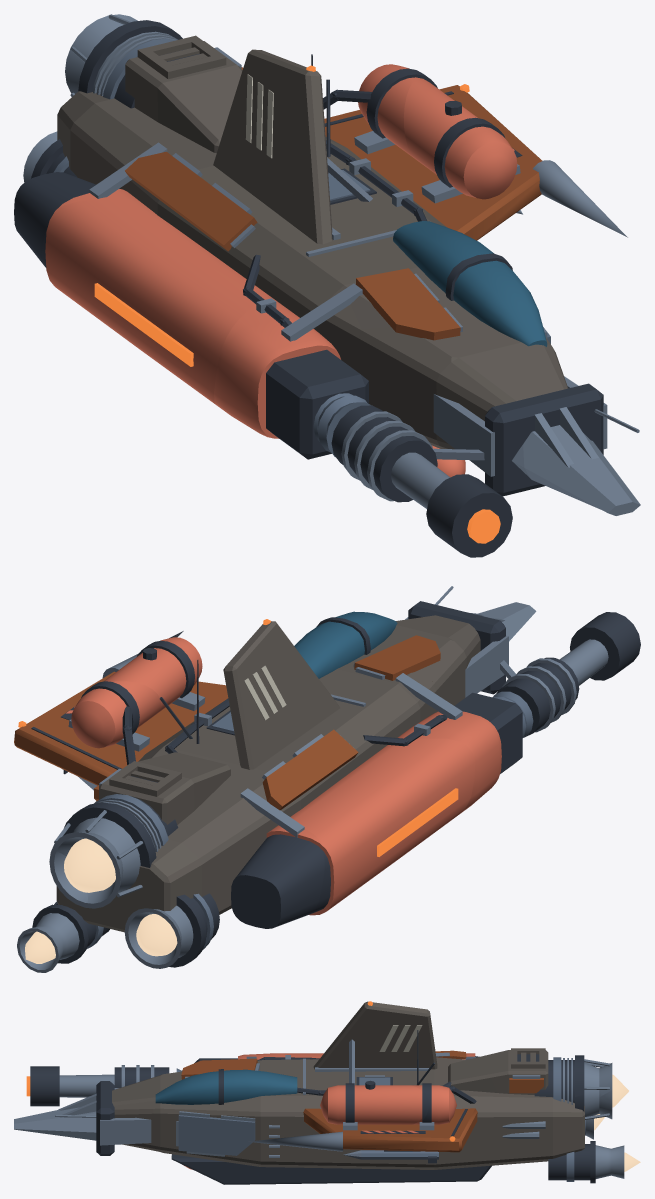
The model's file is scrap_raider_wreck.glb.
3 renders of one model, top to bottom at view 1: azimuth 30°, elevation 25°; view 2: azimuth 150°, elevation 25°; view 3: azimuth 270°, elevation 25°, orthographic. The views are drawn at different scales.
Visible parts, largest first — view 1: scrap_raider_wreck_01, scrap_raider_wreck_05, scrap_raider_wreck_00, scrap_raider_wreck_02, scrap_raider_wreck_06, scrap_raider_wreck_07, scrap_raider_wreck_04, scrap_raider_wreck_09, scrap_raider_wreck_03; view 2: scrap_raider_wreck_00, scrap_raider_wreck_05, scrap_raider_wreck_01, scrap_raider_wreck_02, scrap_raider_wreck_03, scrap_raider_wreck_06, scrap_raider_wreck_04, scrap_raider_wreck_07, scrap_raider_wreck_08, scrap_raider_wreck_09; view 3: scrap_raider_wreck_06, scrap_raider_wreck_03, scrap_raider_wreck_07, scrap_raider_wreck_02, scrap_raider_wreck_08, scrap_raider_wreck_00, scrap_raider_wreck_09, scrap_raider_wreck_01, scrap_raider_wreck_04.
Boxes of the visible parts, left/top/right/bottom form: scrap_raider_wreck_01: left=272, top=317, right=534, bottom=557; scrap_raider_wreck_05: left=42, top=191, right=307, bottom=404; scrap_raider_wreck_00: left=14, top=14, right=243, bottom=264; scrap_raider_wreck_02: left=130, top=49, right=384, bottom=229; scrap_raider_wreck_06: left=324, top=205, right=557, bottom=358; scrap_raider_wreck_07: left=382, top=74, right=627, bottom=240; scrap_raider_wreck_04: left=214, top=222, right=375, bottom=447; scrap_raider_wreck_09: left=517, top=347, right=640, bottom=515; scrap_raider_wreck_03: left=323, top=64, right=467, bottom=195; scrap_raider_wreck_00: left=53, top=760, right=324, bottom=968; scrap_raider_wreck_05: left=284, top=709, right=475, bottom=915; scrap_raider_wreck_01: left=405, top=612, right=640, bottom=769; scrap_raider_wreck_02: left=159, top=619, right=332, bottom=811; scrap_raider_wreck_03: left=14, top=681, right=230, bottom=802; scrap_raider_wreck_06: left=294, top=611, right=433, bottom=699; scrap_raider_wreck_04: left=330, top=682, right=508, bottom=813; scrap_raider_wreck_07: left=19, top=631, right=229, bottom=723; scrap_raider_wreck_08: left=17, top=833, right=124, bottom=972; scrap_raider_wreck_09: left=396, top=586, right=536, bottom=641; scrap_raider_wreck_06: left=152, top=1058, right=334, bottom=1172; scrap_raider_wreck_03: left=336, top=1072, right=514, bottom=1182; scrap_raider_wreck_07: left=248, top=1080, right=452, bottom=1166; scrap_raider_wreck_02: left=320, top=1001, right=483, bottom=1085; scrap_raider_wreck_08: left=505, top=1090, right=640, bottom=1183; scrap_raider_wreck_00: left=459, top=1048, right=628, bottom=1139; scrap_raider_wreck_09: left=14, top=1086, right=160, bottom=1155; scrap_raider_wreck_01: left=26, top=1058, right=231, bottom=1167; scrap_raider_wreck_04: left=187, top=1053, right=355, bottom=1184.
Size of the model in its own units: 2.93 by 2.14 by 6.86.
